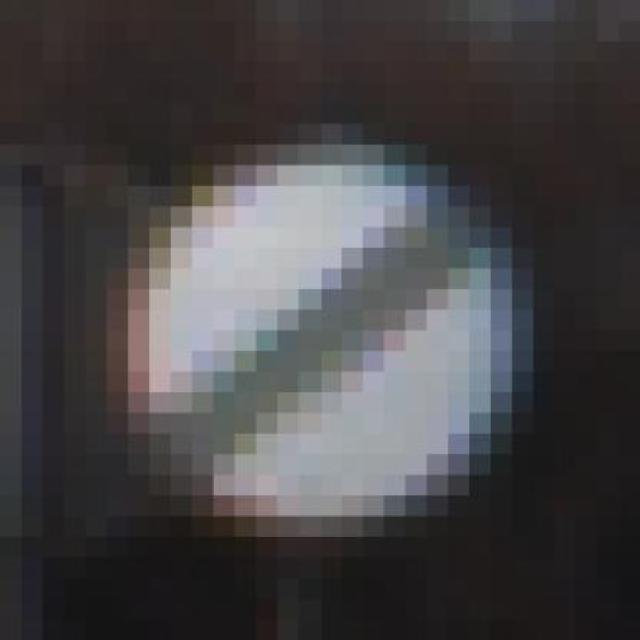End of all speed and passing limits: (106, 124, 534, 558)
